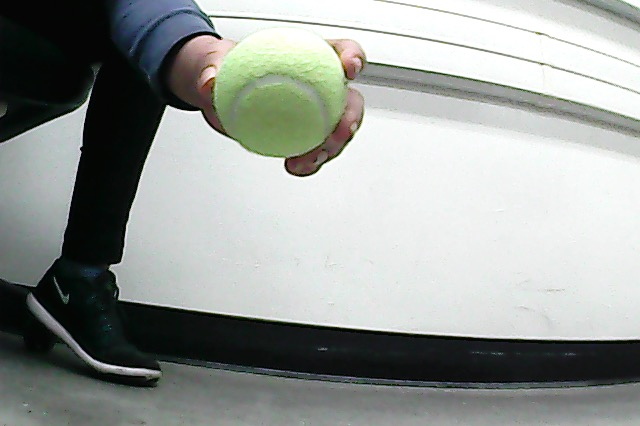ball: (212, 24, 353, 161)
